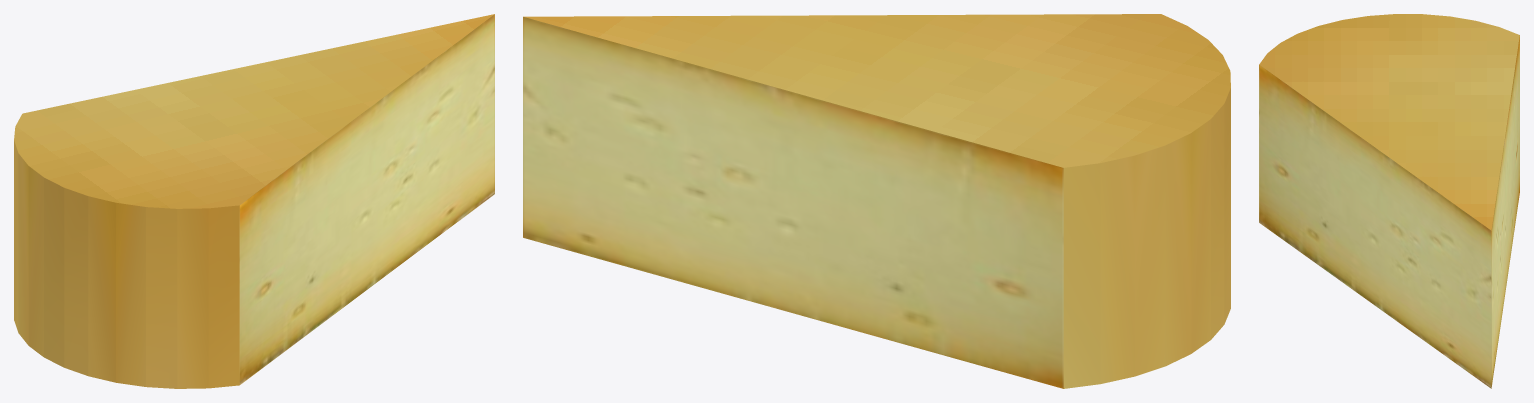
The model's file is dsrt_chk.glb.
3 views of the same model, side by side, from view 1: azimuth 30°, elevation 25°; view 2: azimuth 150°, elevation 25°; view 3: azimuth 270°, elevation 25° (orthographic). The views are drawn at different scales.
Parts seen in each view (by area): view 1: Material7, Material6, Material5; view 2: Material2, Material6, Material5; view 3: Material7, Material6, Material2.
Part boxes in pixels (bbox=[...]): Material7: bbox=[239, 14, 494, 384]; Material6: bbox=[14, 14, 494, 208]; Material5: bbox=[14, 140, 239, 388]; Material2: bbox=[523, 17, 1063, 388]; Material6: bbox=[523, 14, 1230, 167]; Material5: bbox=[1063, 88, 1230, 388]; Material7: bbox=[1259, 65, 1491, 388]; Material6: bbox=[1259, 14, 1519, 230]; Material2: bbox=[1491, 35, 1519, 386].
Size of the model in its own units: 104 by 35.25 by 52.64.
6 materials, 5 textured.
